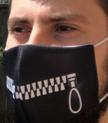with_mask: (1, 1, 108, 123)
